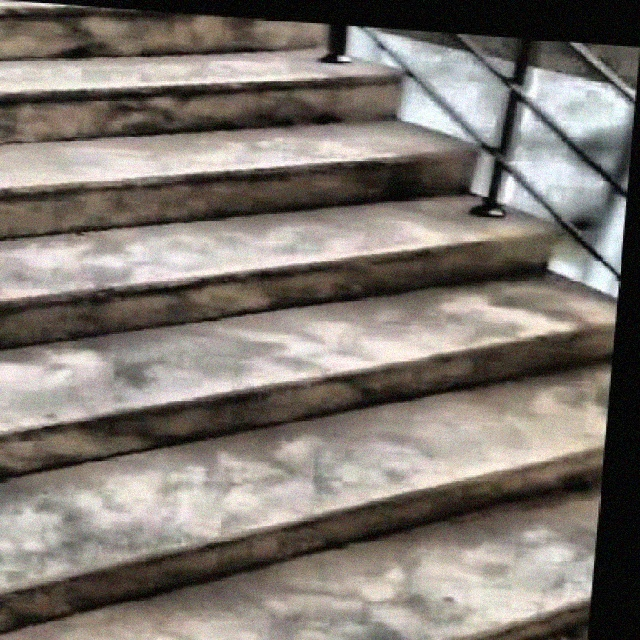stair: (0, 10, 638, 638)
